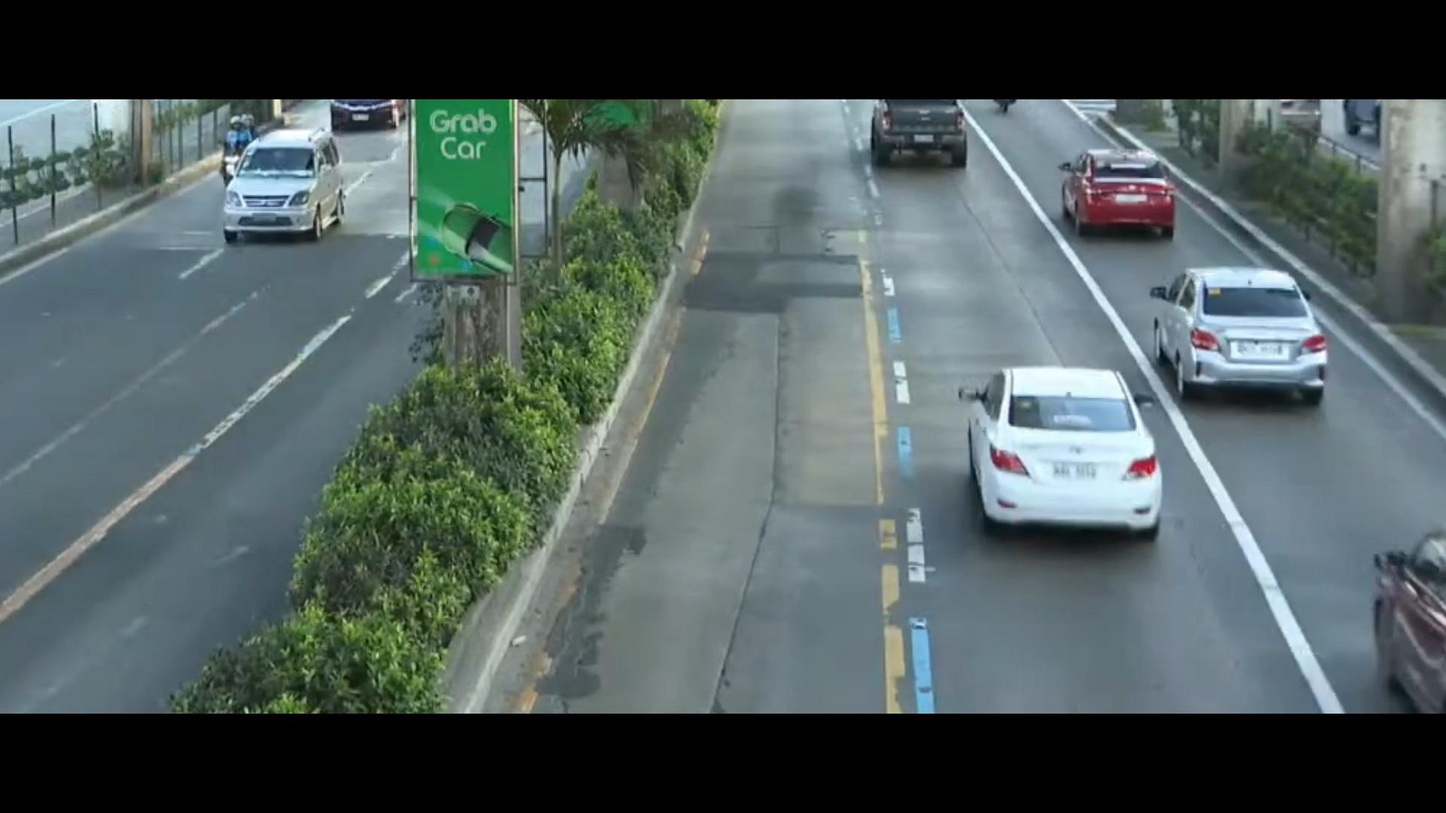Motorcycle: (212, 111, 264, 202)
Pickup: (851, 101, 991, 189)
SUV: (209, 126, 347, 256)
Sedan: (953, 339, 1200, 553), (1164, 245, 1352, 407), (1049, 134, 1180, 246)
